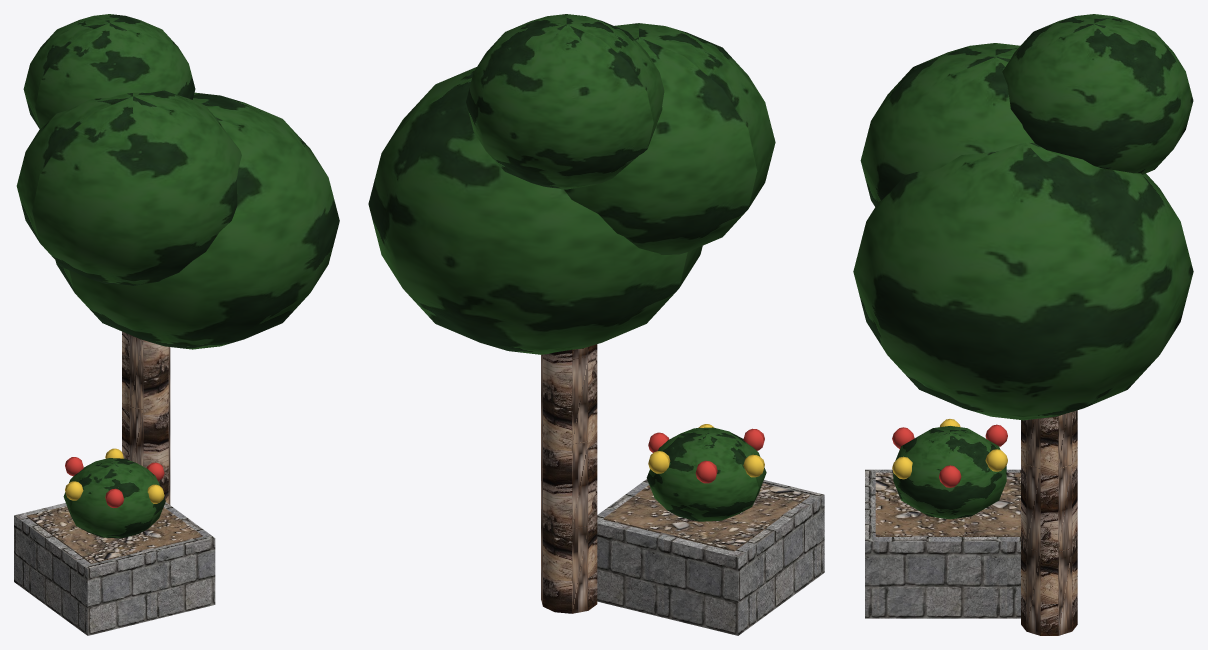
The model's file is jardinera_arbol.glb.
3 views of the same model, side by side, from view 1: azimuth 30°, elevation 25°; view 2: azimuth 150°, elevation 25°; view 3: azimuth 270°, elevation 25° (orthographic). The views are drawn at different scales.
Parts seen in each view (by area): view 1: pieza; view 2: pieza; view 3: pieza.
Part boxes in pixels (box(x1,y1,x2,y2)): pieza: box(14, 14, 339, 635); pieza: box(368, 14, 824, 635); pieza: box(853, 14, 1193, 635).
Bounding box in the file's own units: 2.83 × 4.59 × 2.4.
Materials: 6 (4 with a texture image).
